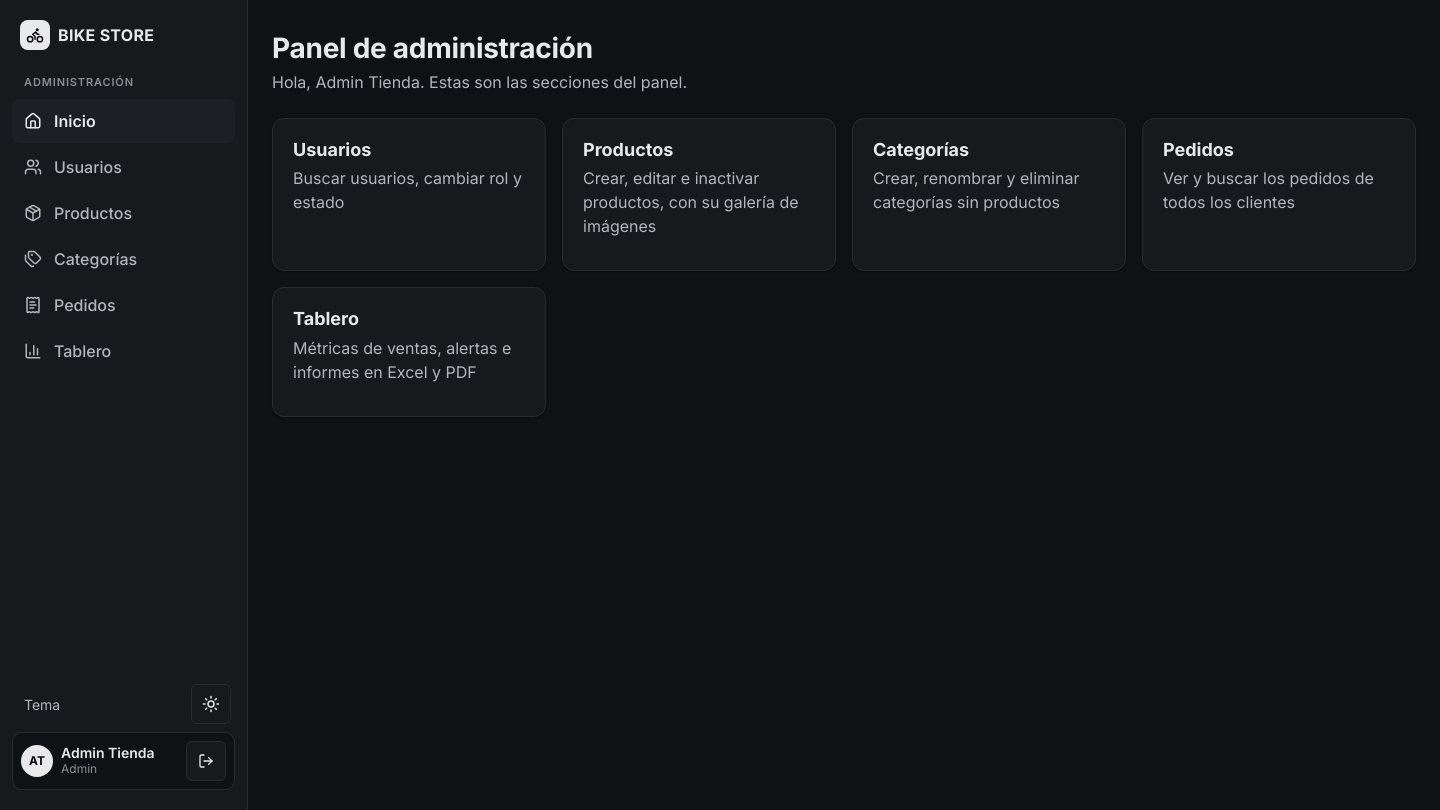
Scenario: Acceso y listado › la barra lateral y el inicio del panel llevan a Categorías
Click the link "Categorías" below ". Estas son las secciones del panel.": [921, 149] box left=873, top=139, right=969, bottom=160
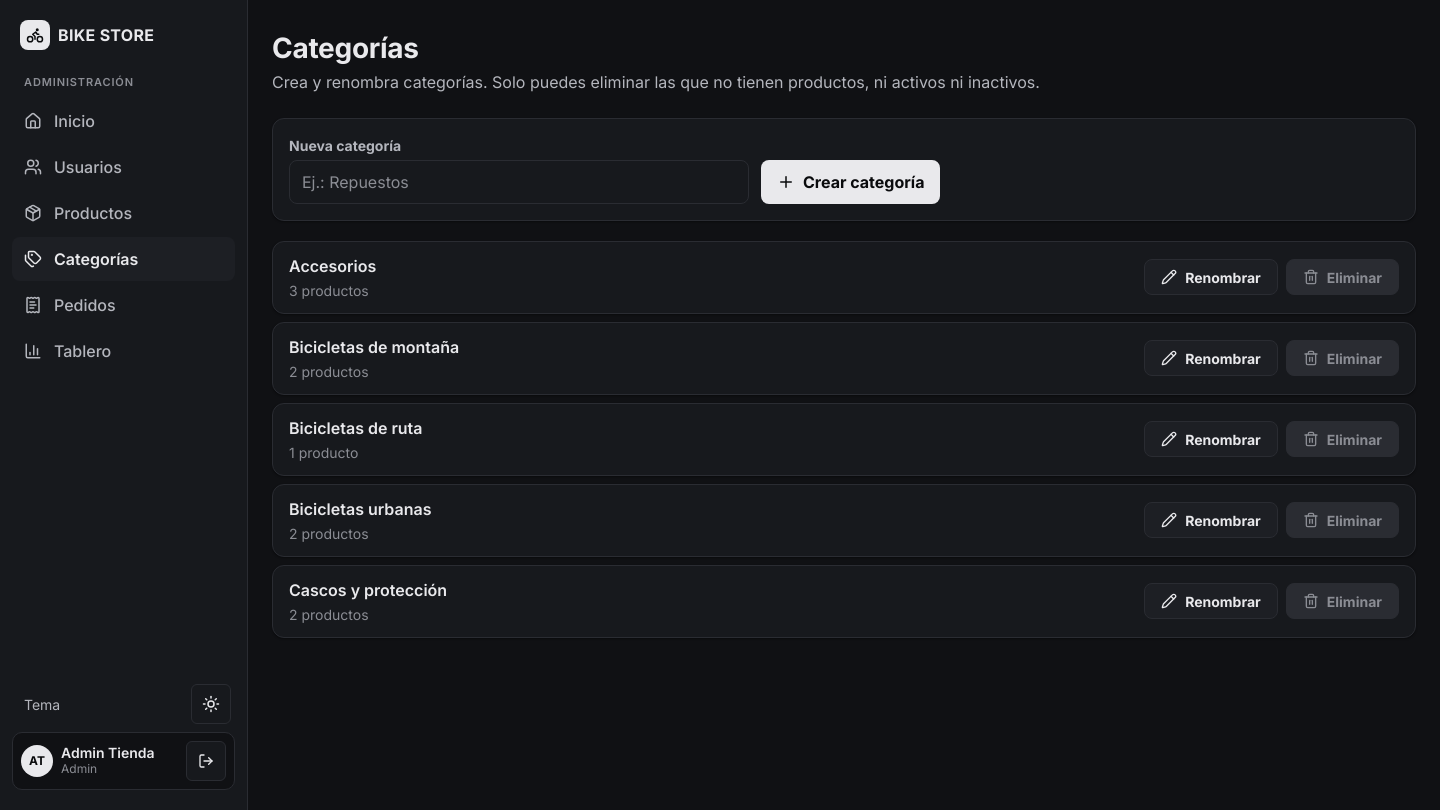
Now the heading "Categorías" is shown, box left=272, top=31, right=419, bottom=65
